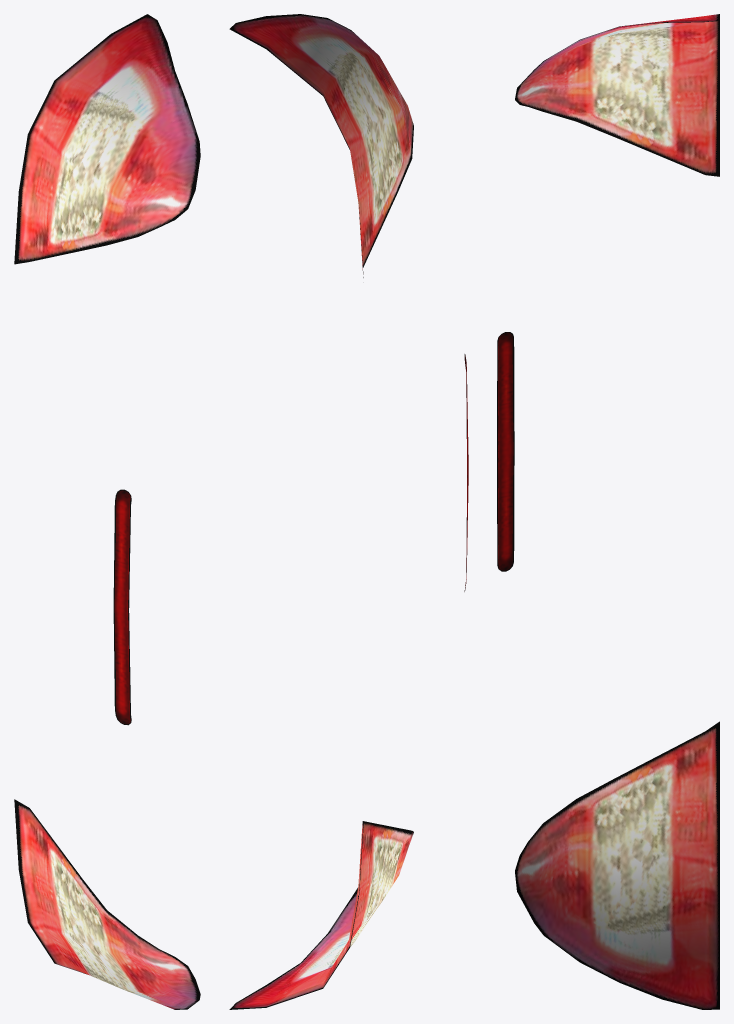
The model's file is brakes_on.obj.
3 renders of one model, left to right at view 1: azimuth 30°, elevation 25°; view 2: azimuth 150°, elevation 25°; view 3: azimuth 270°, elevation 25°, orthographic.
Parts seen in each view (by area): view 1: Material__401; view 2: Material__401; view 3: Material__401.
Boxes of the visible parts, bbox=[...] form: Material__401: bbox=[14, 14, 200, 1009]; Material__401: bbox=[229, 14, 468, 1009]; Material__401: bbox=[497, 14, 719, 1009].
Bounding box in the file's own units: 0.2276 × 1.55 × 0.3162.
1 material, 1 textured.
